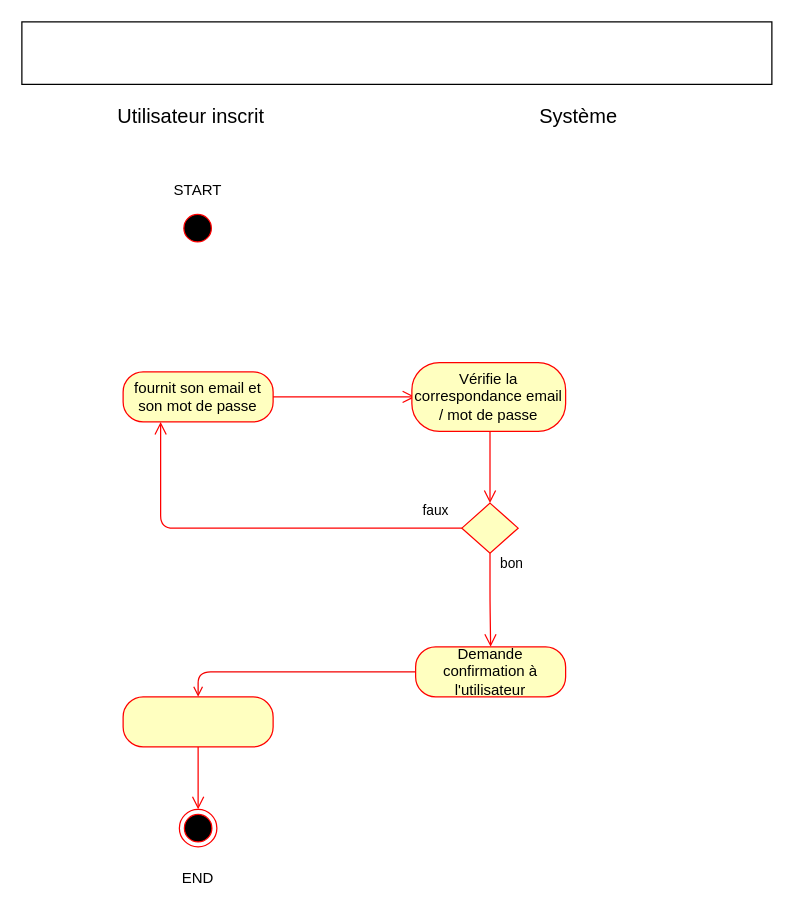
This 794x919 diagram has some shape labels left out. The shapes that lost their labels are listed below. From the top down, each one's centre as x and y in pixels, then its label:
At point 396,52: "Connexion d'un utilisateur".
At point 197,721: "Confirme l'archivage".
